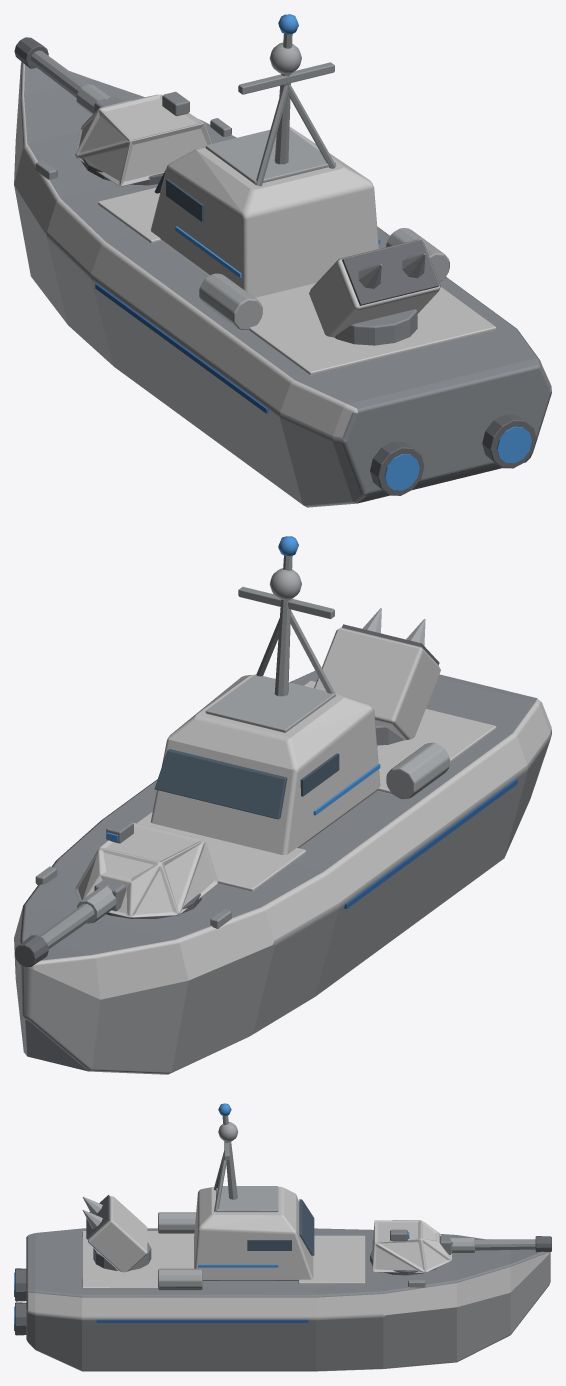
Rendered from lattice_patrol_boat.glb.
3 renders of one model, top to bottom at view 1: azimuth 30°, elevation 25°; view 2: azimuth 150°, elevation 25°; view 3: azimuth 270°, elevation 25°, orthographic. The views are drawn at different scales.
Parts seen in each view (by area): view 1: Body, Turret; view 2: Body, Turret; view 3: Body, Turret.
Part boxes in pixels (left/top/right/bottom): Body: left=14, top=14, right=551, bottom=507; Turret: left=14, top=37, right=211, bottom=186; Body: left=14, top=536, right=551, bottom=1074; Turret: left=14, top=819, right=217, bottom=967; Body: left=14, top=1103, right=550, bottom=1371; Turret: left=370, top=1220, right=551, bottom=1275.
Size of the model in its own units: 0.806 by 1.18 by 2.41.
